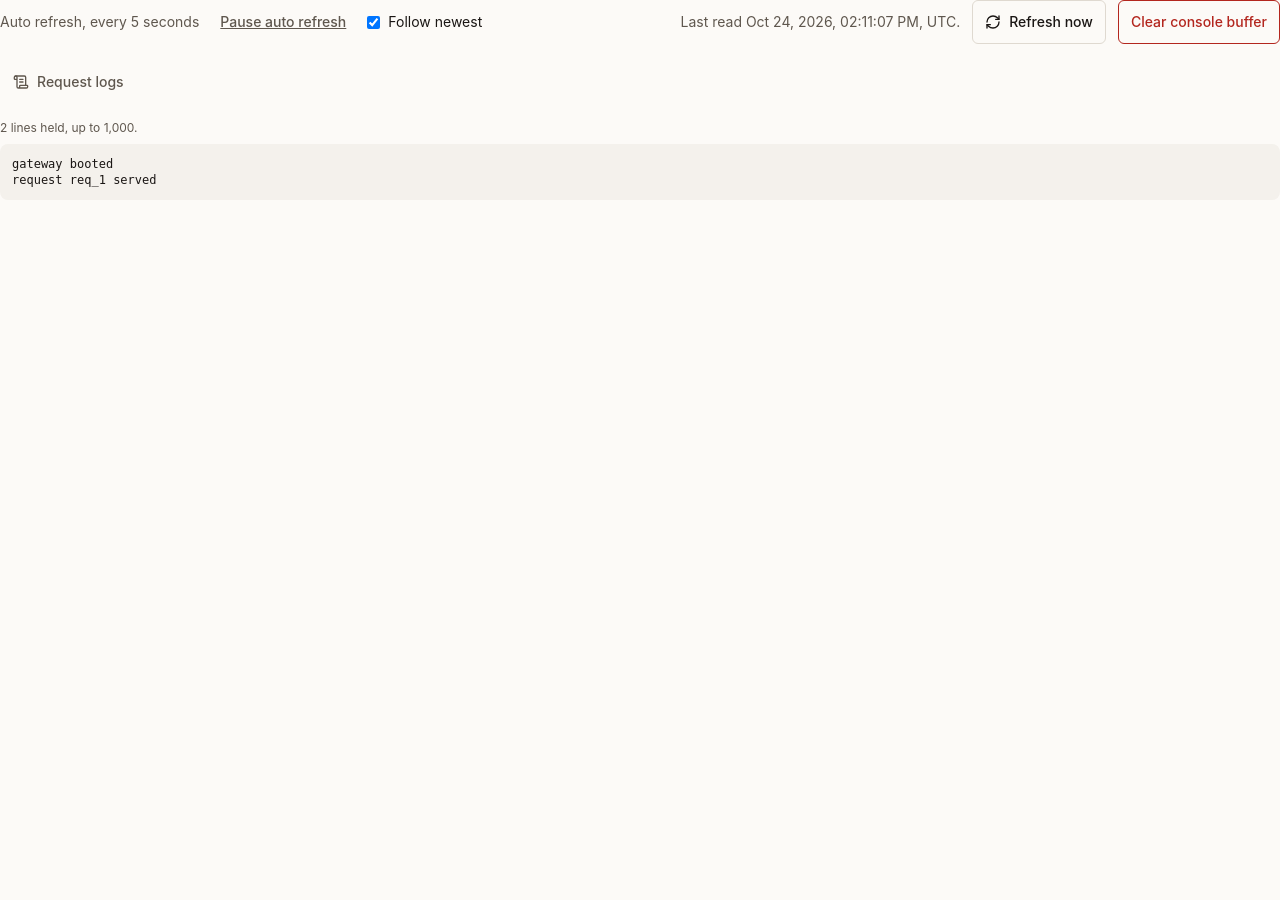
Test: ConsoleLog clear › asks first, and says where the lines actually go
expect the text "gateway booted request req_1 served" is shown: met, box [0,144,1279,200]
Step 1. Click the button "Clear console buffer" → point(1199, 22), box [1118,0,1279,44]
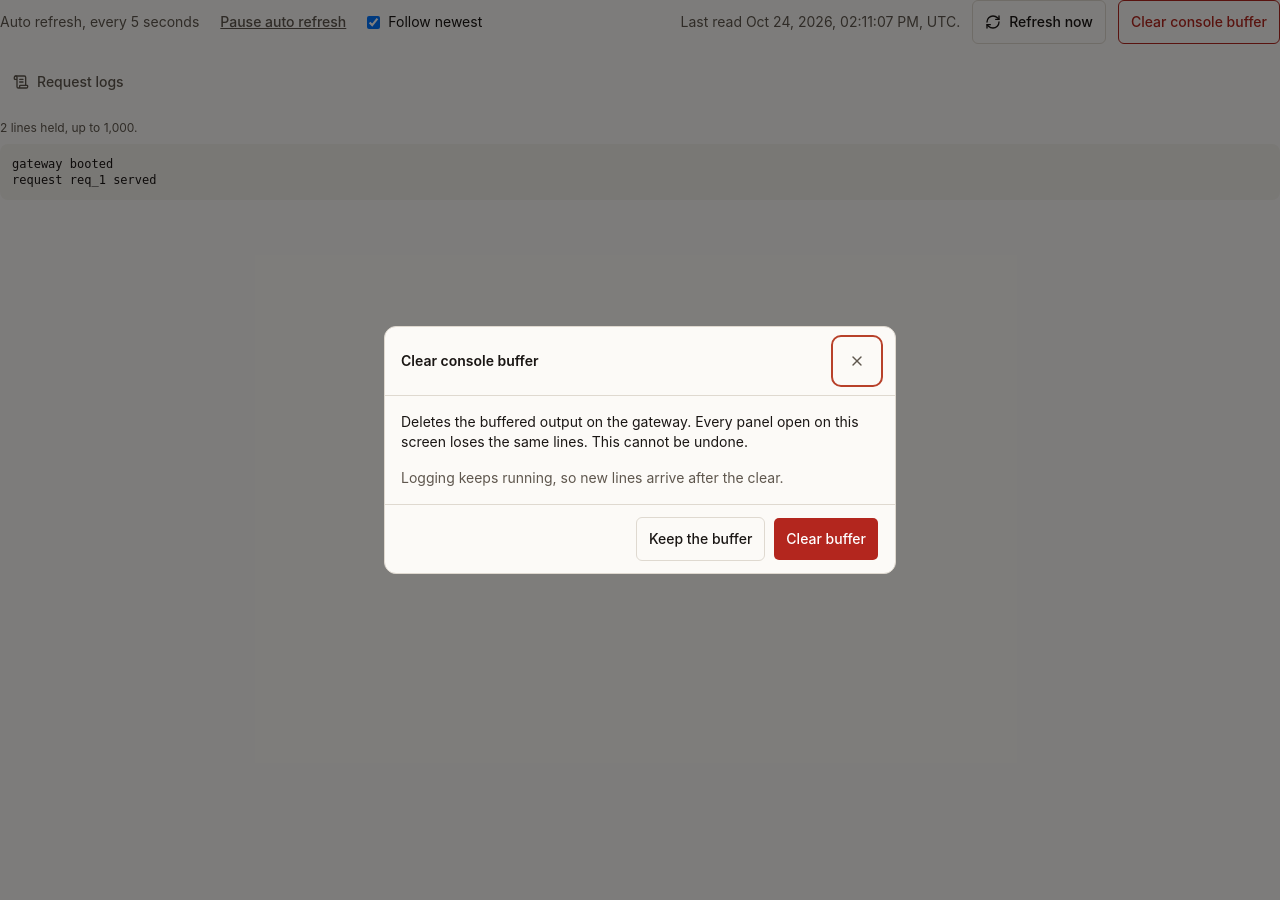
expect the text "Deletes the buffered output on the gateway" is shown: met, box [401,413,858,450]
expect the text "Logging keeps running, so new lines arrive after the clear." is shown: met, box [401,469,784,486]
